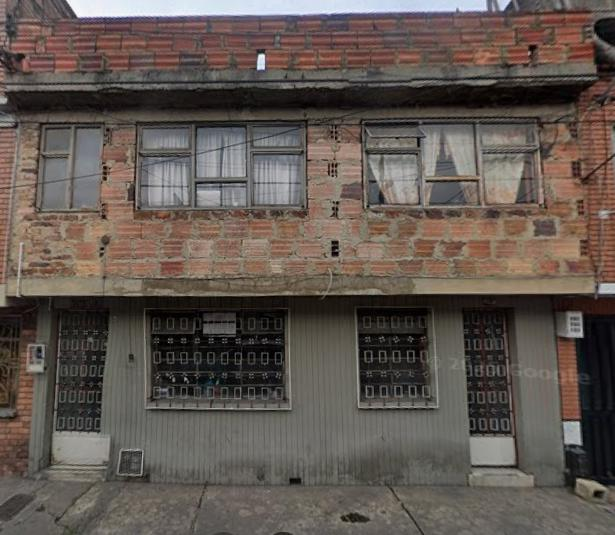casa: (8, 14, 595, 484)
